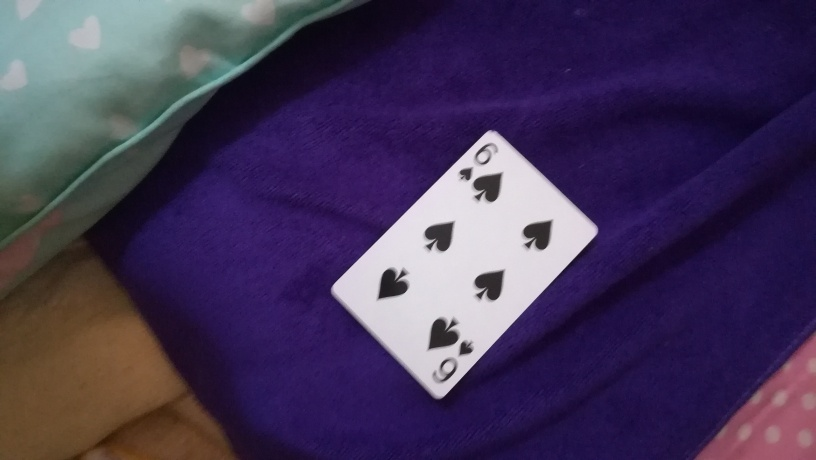ht 6: (329, 125, 601, 403)
